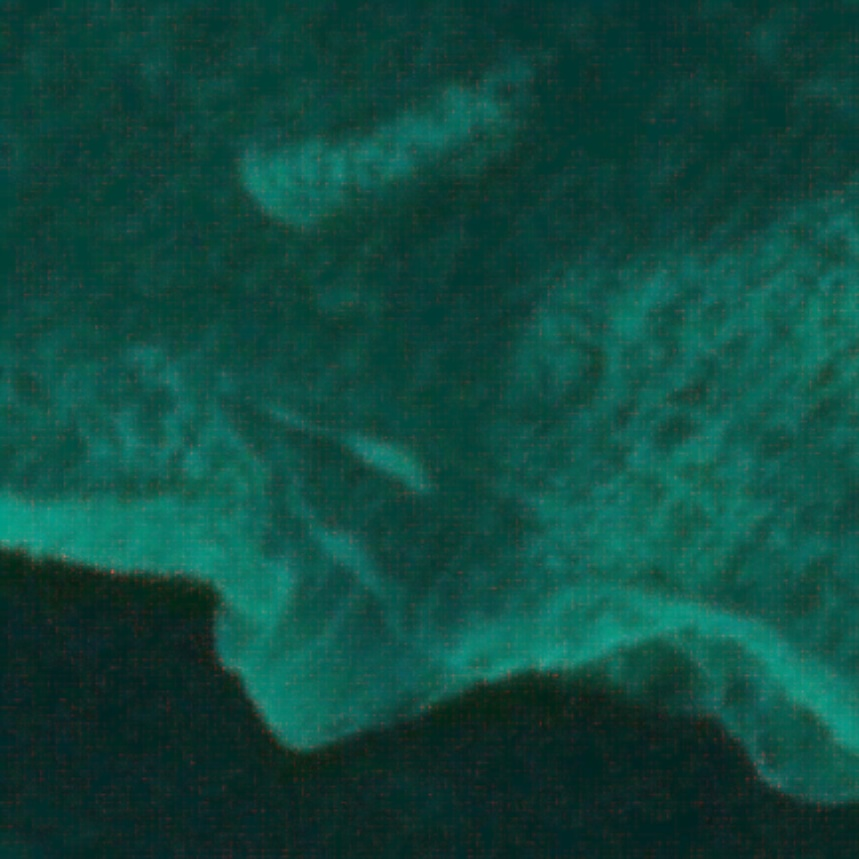rip_current: (325, 131, 643, 590)
